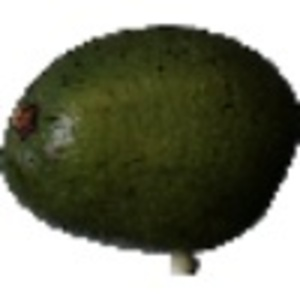abacate: (1, 22, 295, 247)
